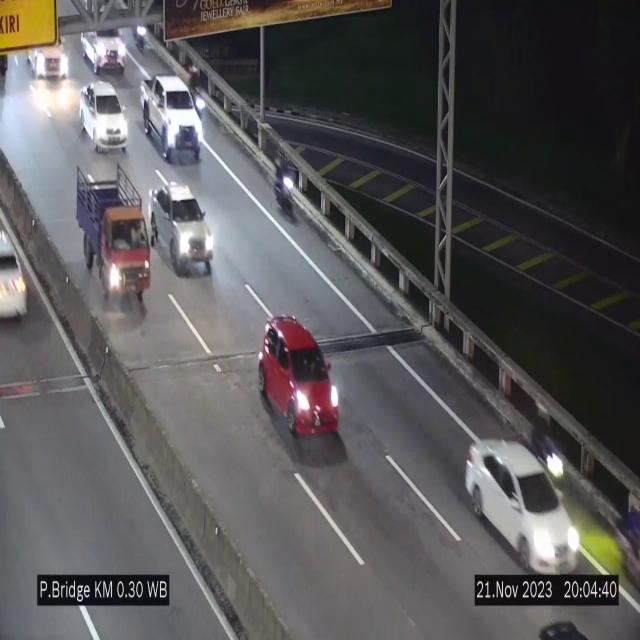Car: (467, 437, 582, 575), (256, 313, 340, 439), (147, 184, 213, 276), (0, 199, 46, 321), (140, 74, 202, 162), (80, 82, 128, 152), (79, 12, 127, 76), (32, 22, 74, 84)
Motorcycle: (532, 417, 564, 490), (272, 152, 296, 220), (126, 0, 148, 57)
Truck: (74, 161, 153, 302)
